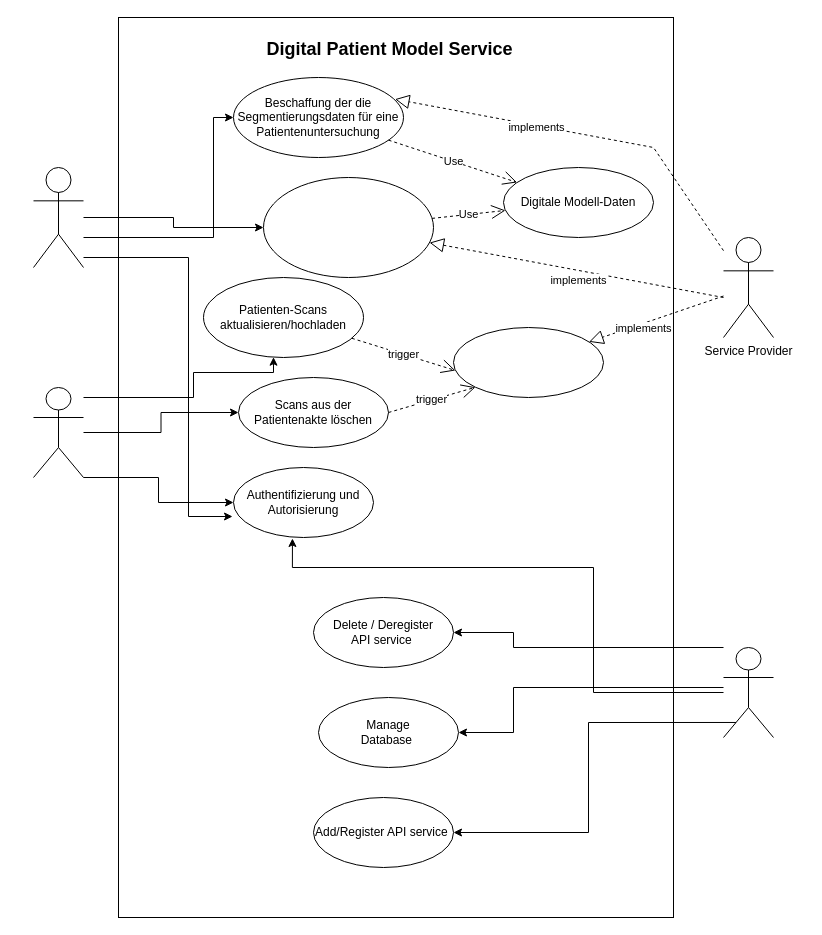
This 822x935 diagram has some shape labels left out. The centre of each missing label's shape, as x and y in pixels:
"Beschaffung der strukturelle Informationen für eine Patientenuntersuchung" belongs at (348,227).
"Digital Model Data Generation / Update" belongs at (528,362).
"Doctor" belongs at (58,217).
"Lab Technician" belongs at (58,432).
"System Administrator" belongs at (748,692).
